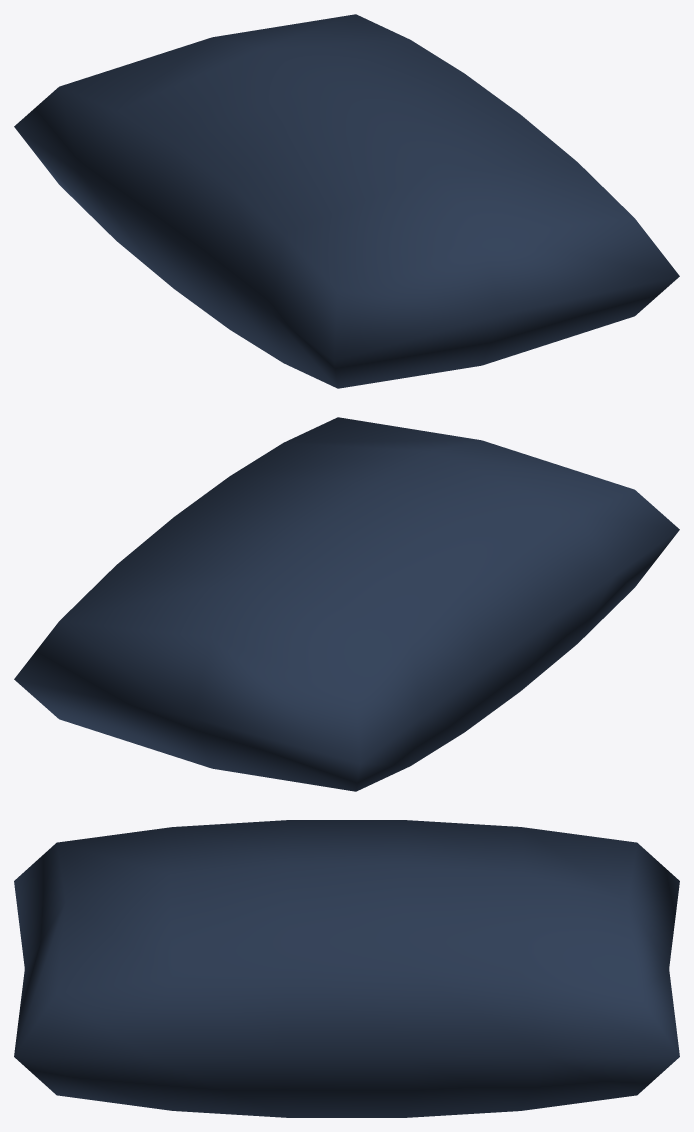
Rendered from Pillow_Bedroom_V1.fbx.
The picture shows the model from 3 angles, top to bottom: view 1: azimuth 30°, elevation 25°; view 2: azimuth 150°, elevation 25°; view 3: azimuth 270°, elevation 25°; orthographic projection. The views are drawn at different scales.
Parts seen in each view (by area): view 1: Cube.008; view 2: Cube.008; view 3: Cube.008.
Boxes of the visible parts, x1,y1,x2,y2 form: Cube.008: (14,14,679,388); Cube.008: (14,417,679,791); Cube.008: (14,820,679,1117).
Size of the model in its own units: 41.95 by 23.15 by 67.17.
